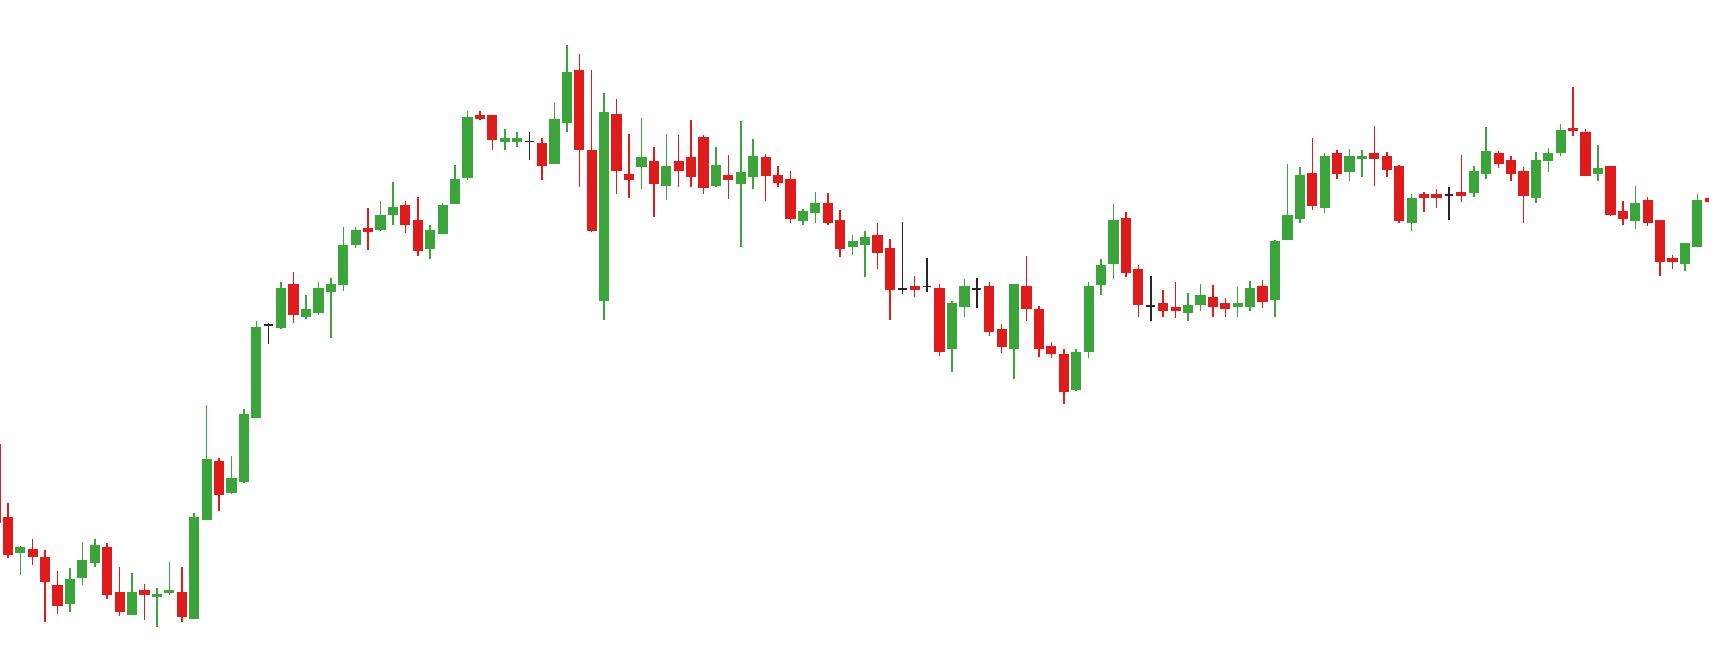buy: (946, 305, 1083, 409)
sell: (1476, 82, 1593, 197)
